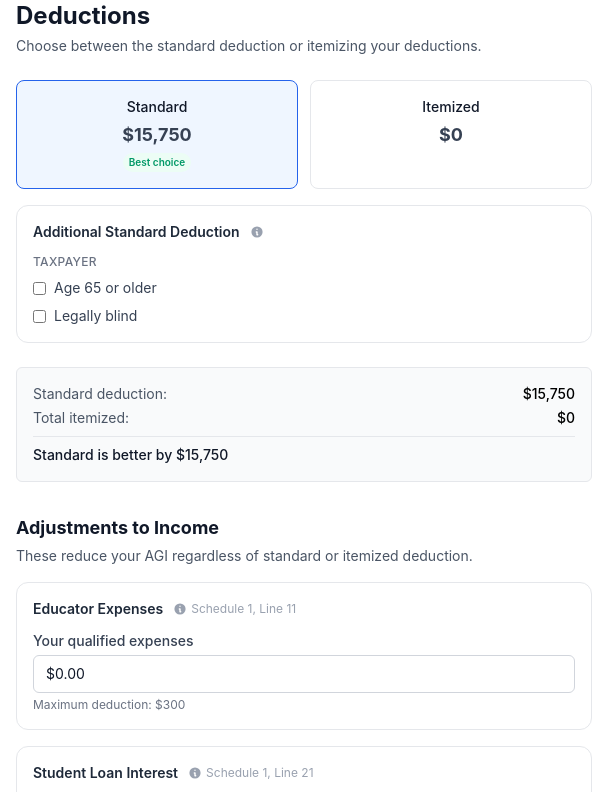
Test: DeductionsPage › switches to itemized and shows fields
Click the text "Itemized": click(451, 107) [422,97,480,117]
(page scrolled)
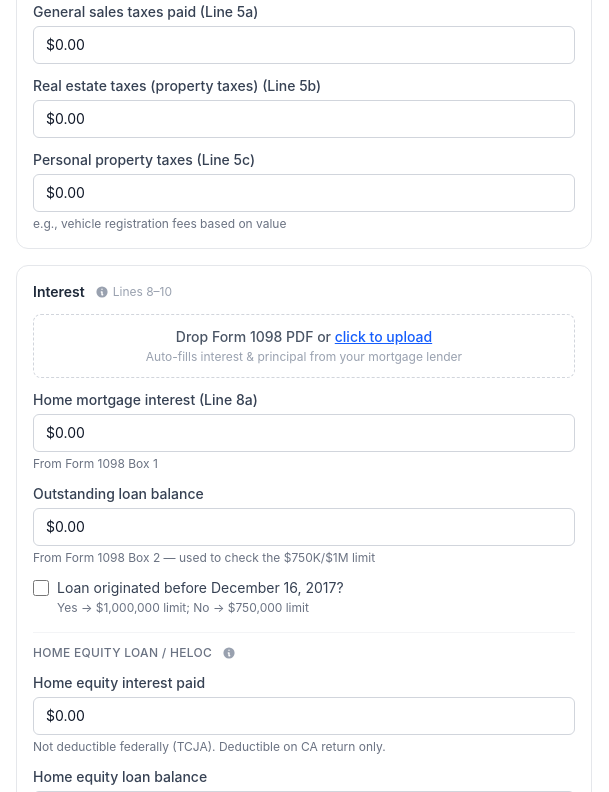
Check: the text "Home mortgage interest (Line 8a)" is shown, box [33,391,258,408]
